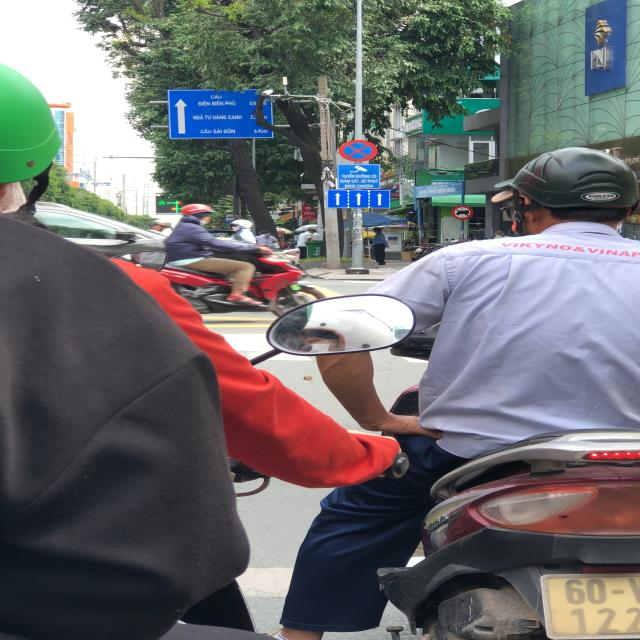Bien bao cam dung xe va do xe: (338, 137, 378, 162)
